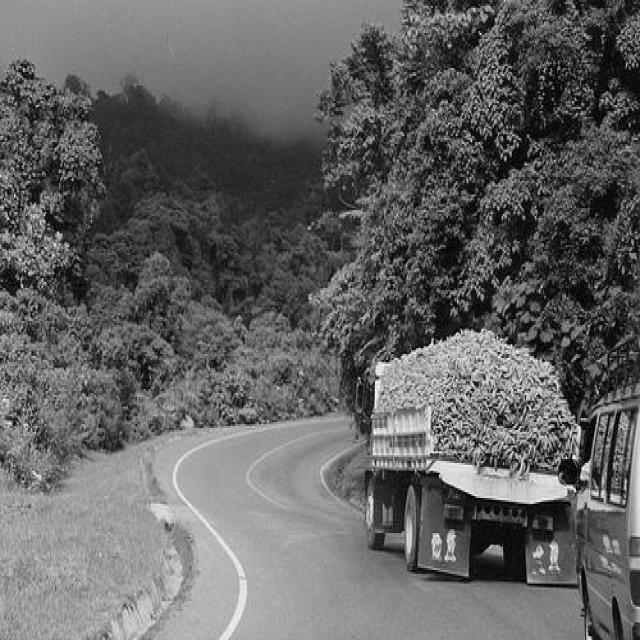vehicle: (364, 408, 580, 590), (577, 334, 639, 640)
